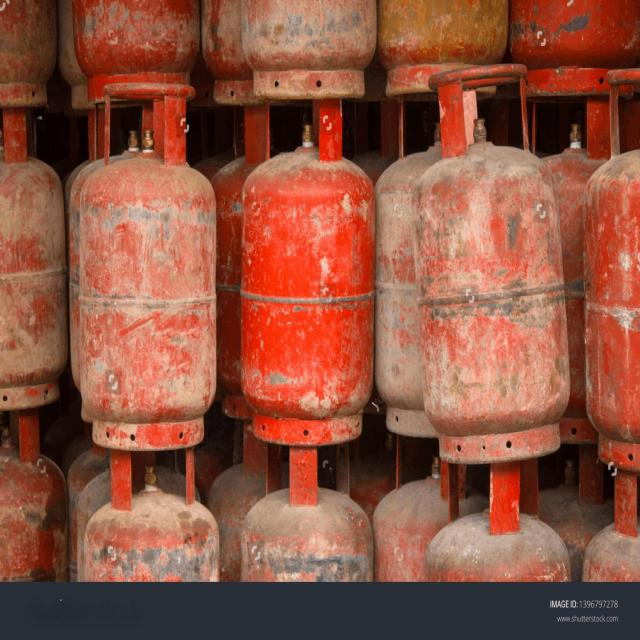Cylinder: (420, 64, 569, 464), (81, 81, 218, 451), (241, 96, 374, 449)
